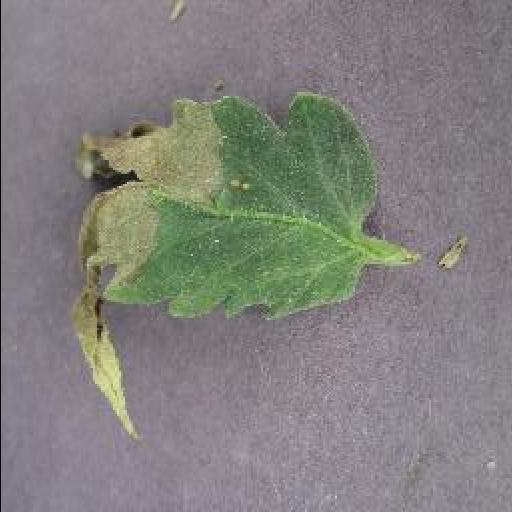disease_tomato: (66, 90, 426, 438)
